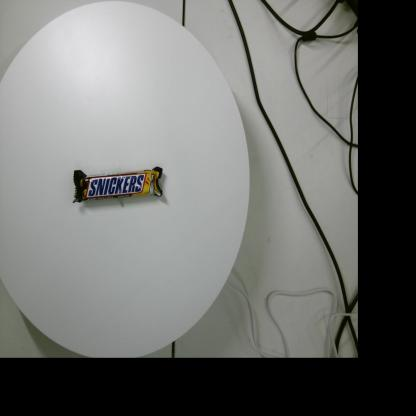Chocolate: (73, 166, 163, 203)
